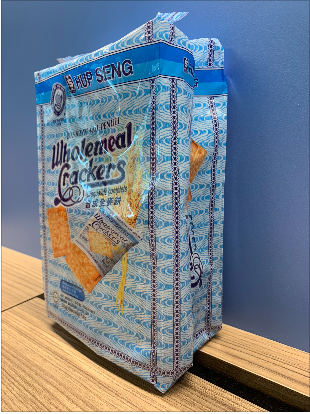Crackers_200-299g: (46, 77, 215, 336)
